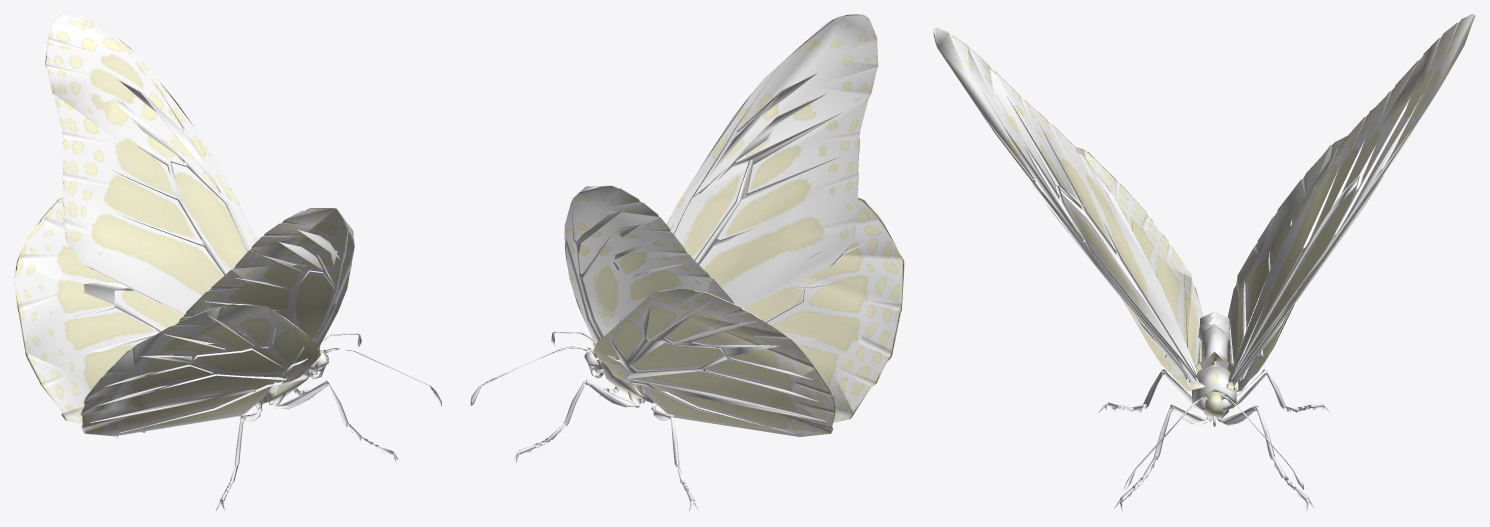
The model's file is butterfly.glb.
The picture shows the model from 3 angles, left to right: view 1: azimuth 30°, elevation 25°; view 2: azimuth 150°, elevation 25°; view 3: azimuth 270°, elevation 25°; orthographic projection. The views are drawn at different scales.
Parts seen in each view (by area): view 1: Abdomen.001_Abdomen.002; view 2: Abdomen.001_Abdomen.002; view 3: Abdomen.001_Abdomen.002.
Boxes of the visible parts, x1,y1,x2,y2 form: Abdomen.001_Abdomen.002: [14, 14, 441, 511]; Abdomen.001_Abdomen.002: [470, 14, 904, 512]; Abdomen.001_Abdomen.002: [933, 14, 1475, 511].
Bounding box in the file's own units: 10.45 × 10.68 × 13.
2 materials, 2 textured.
